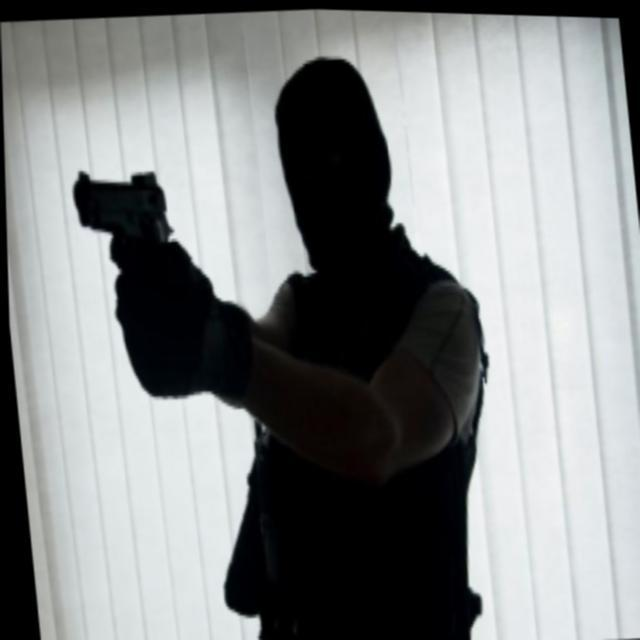weapon: (67, 157, 192, 302)
